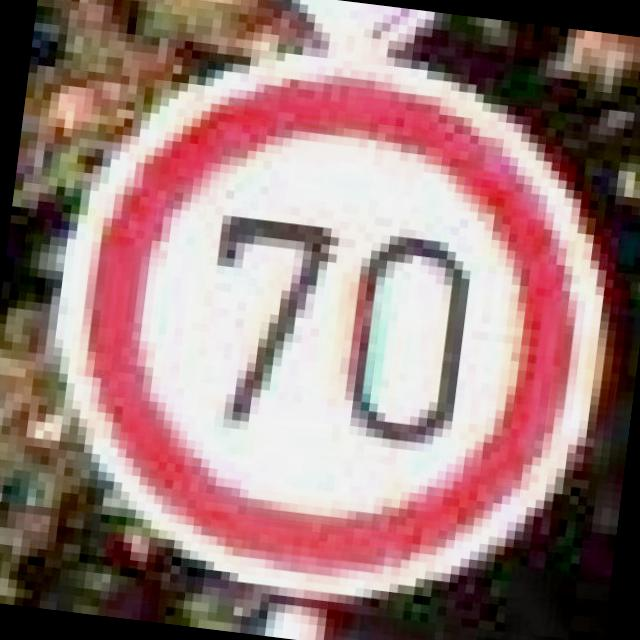Ograniczenie predkosci do 70: (28, 20, 620, 620)
